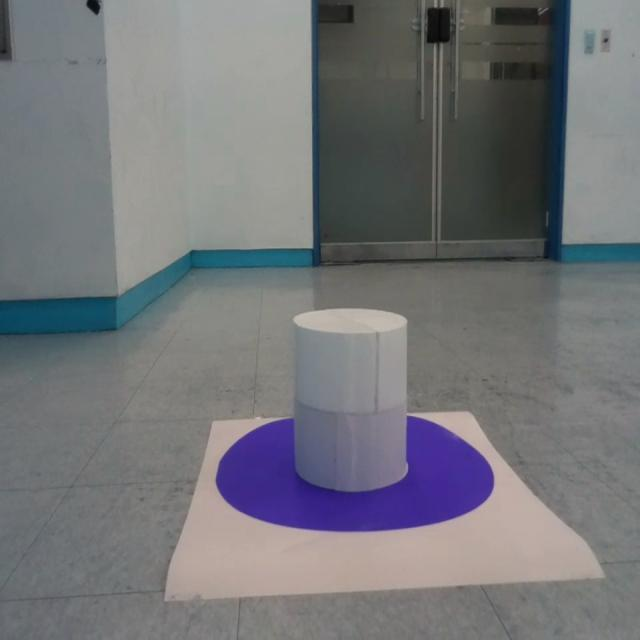cylinder: (291, 308, 409, 492)
